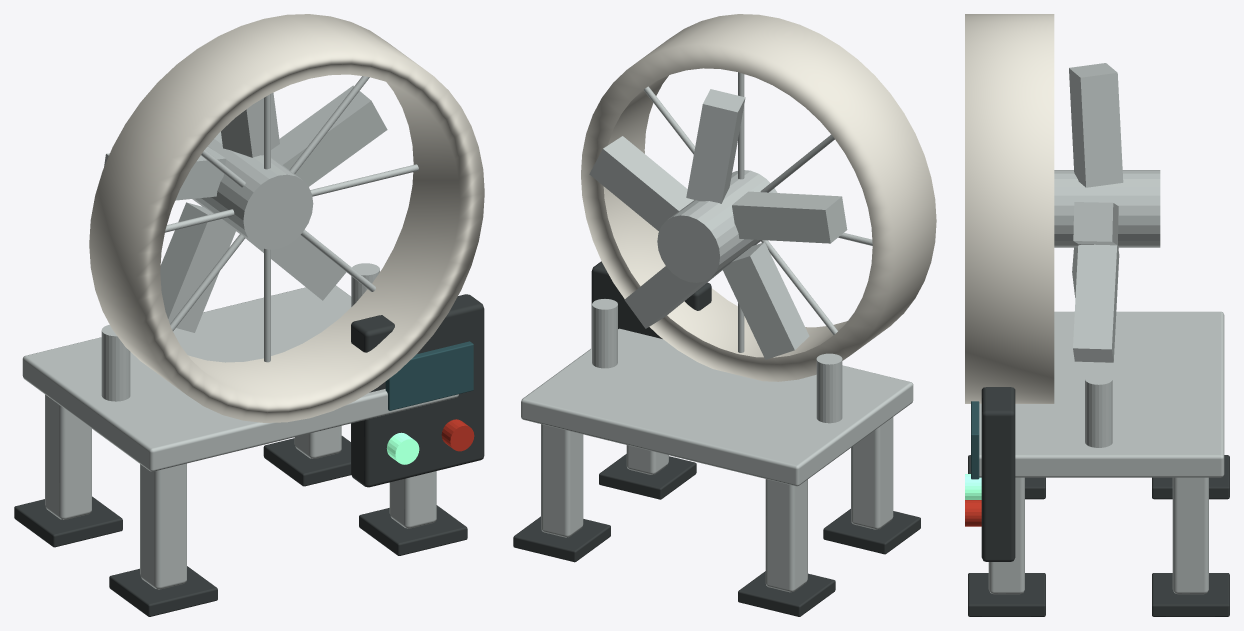
The model's file is tea-garden-and-processing-house-tea-garden-and-process-3b379c8e__30767.glb.
The picture shows the model from 3 angles, left to right: view 1: azimuth 30°, elevation 25°; view 2: azimuth 150°, elevation 25°; view 3: azimuth 270°, elevation 25°; orthographic projection. The views are drawn at different scales.
Parts seen in each view (by area): view 1: tea-garden-and-processing-house-circulation-fan; view 2: tea-garden-and-processing-house-circulation-fan; view 3: tea-garden-and-processing-house-circulation-fan.
Boxes of the visible parts, x1,y1,x2,y2 form: tea-garden-and-processing-house-circulation-fan: (14, 14, 484, 616); tea-garden-and-processing-house-circulation-fan: (513, 14, 936, 616); tea-garden-and-processing-house-circulation-fan: (965, 14, 1229, 616).
Size of the model in its own units: 0.72 by 1.01 by 0.475.
